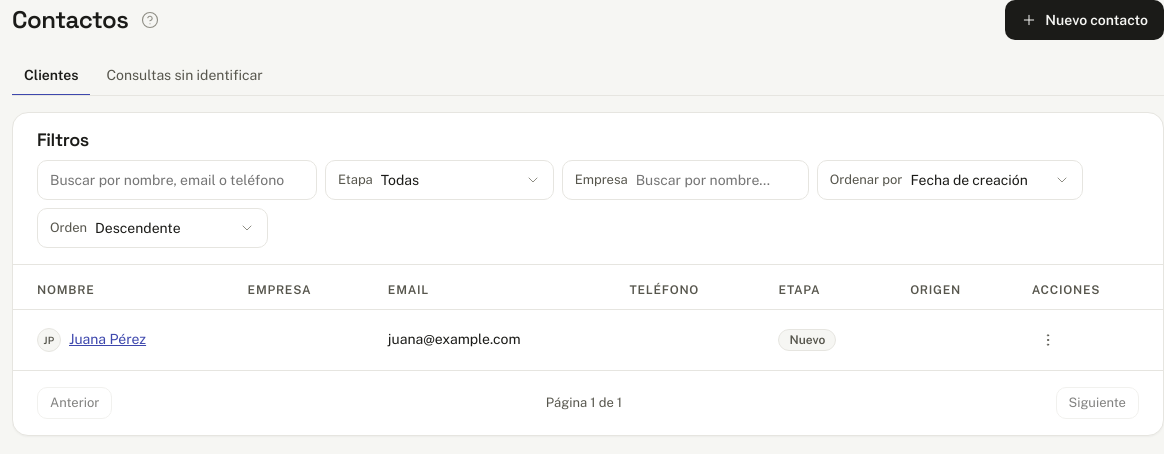
Scenario: ContactListPage › USER ve Nuevo contacto; en el de otro solo Ver detalle, y nunca Eliminar
Expected: the link "Juana Pérez" is shown, [69,329,146,350]
Expected: the link "Nuevo contacto" is shown, [1005,0,1163,40]
Click the button named "Más acciones" at (1048, 340), box [1032,324,1064,356]
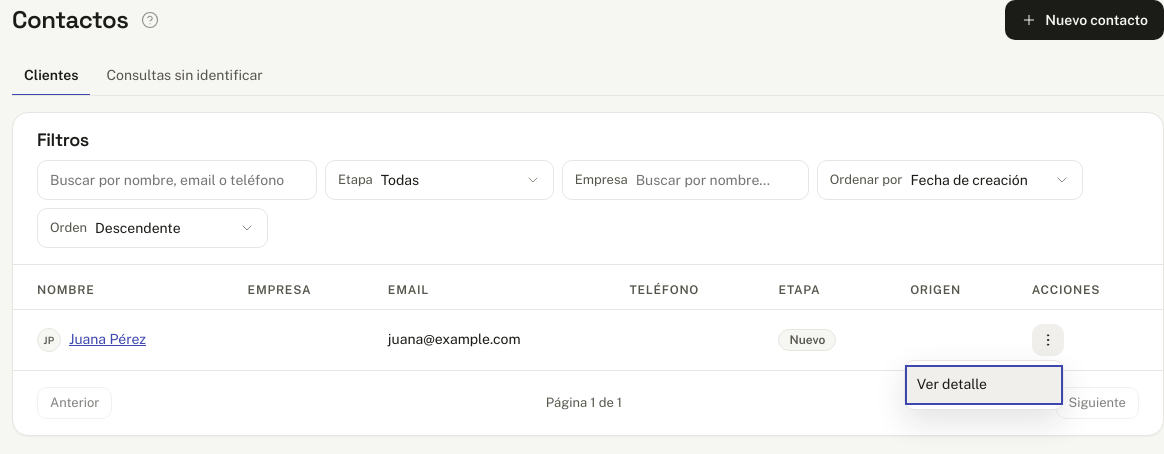
Expected: the menu item "Ver detalle" is shown, [905,364,1063,404]
